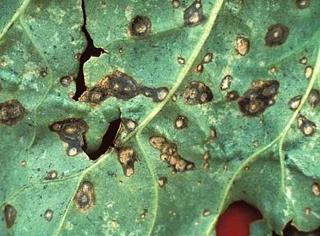Tomato leaf bacterial spot: (4, 0, 319, 233)
